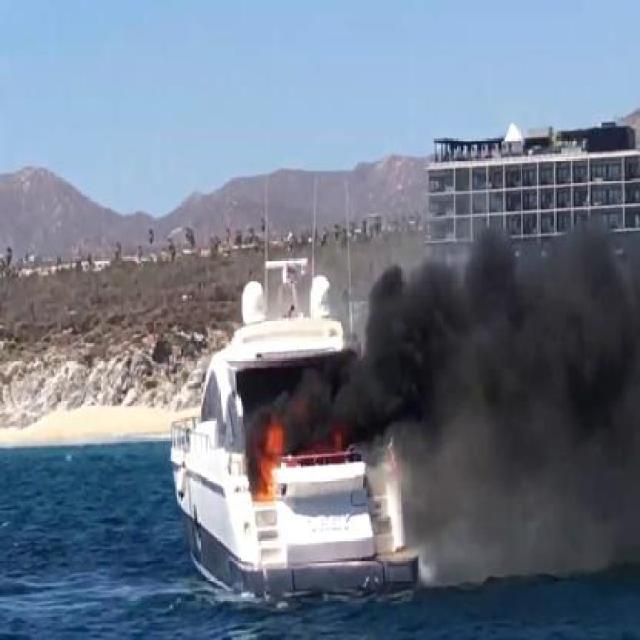Fire: (241, 402, 360, 510)
Smoke: (360, 222, 640, 426)
